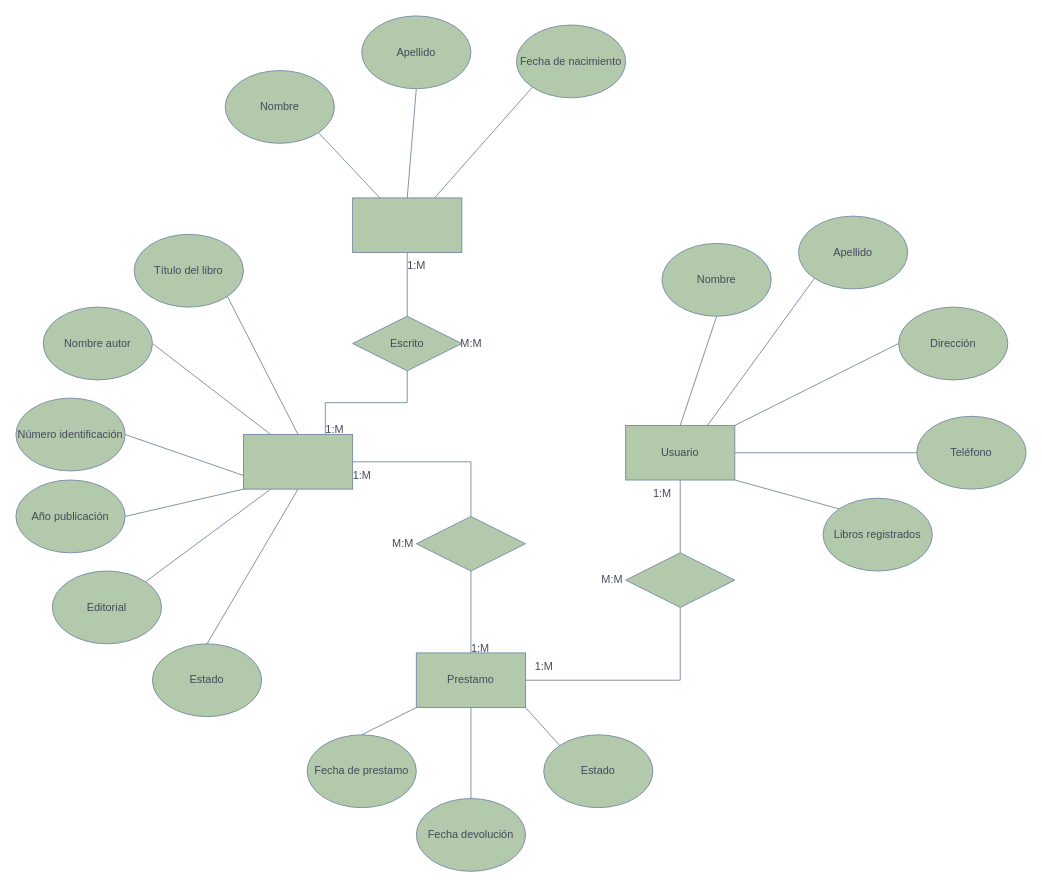
The diagram is 1042 pixels wide and 887 high, and some of its shapes have lost their labels. Here are the shapes that lost their labels. From the top down, the centre of each, then its label:
At point (407, 225): "Autor".
At point (298, 461): "Libro".
At point (470, 543): "Tiene".
At point (680, 579): "Solicita".
